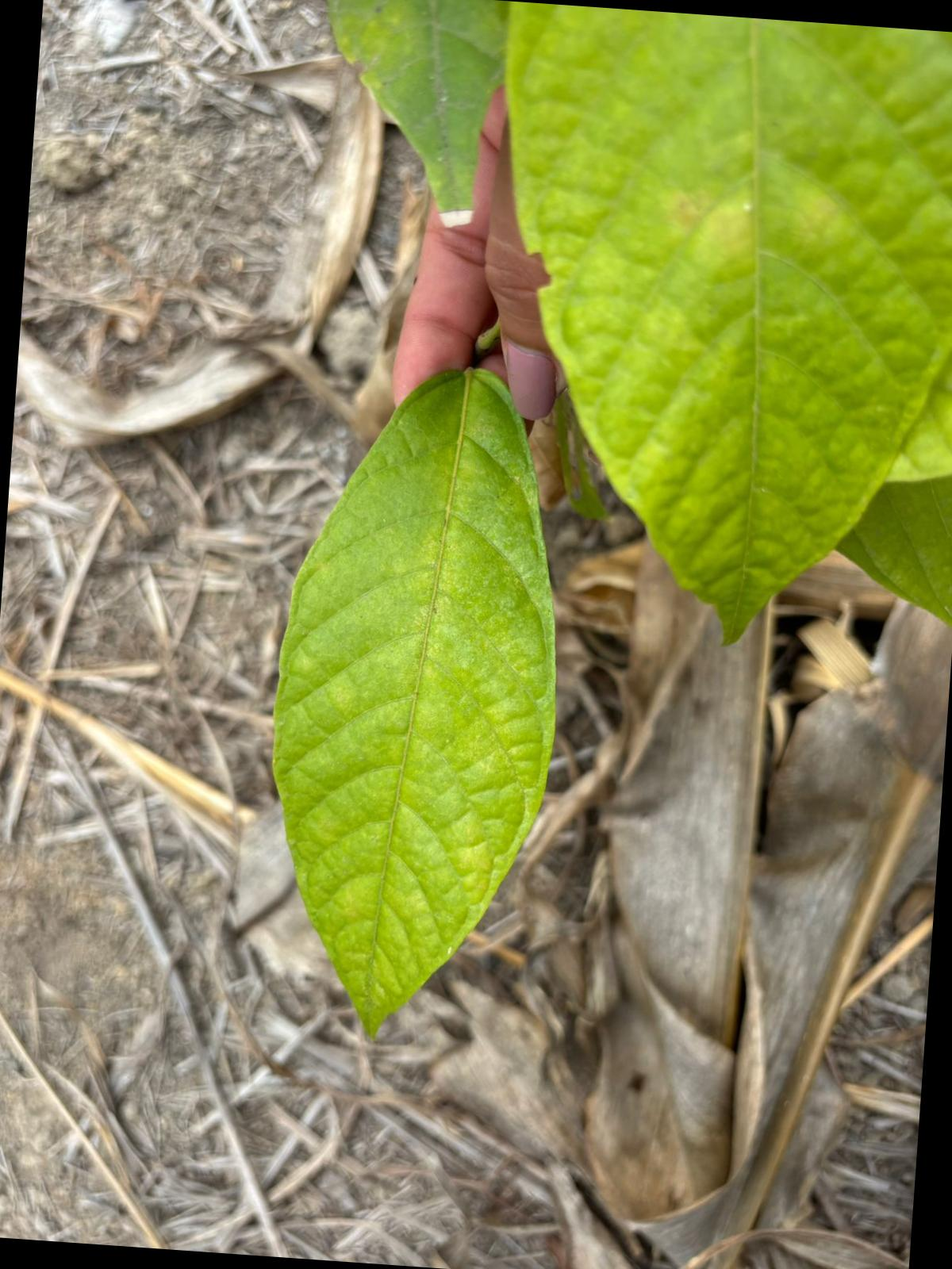Nitrogeno: (275, 369, 556, 1033), (833, 408, 837, 413)
